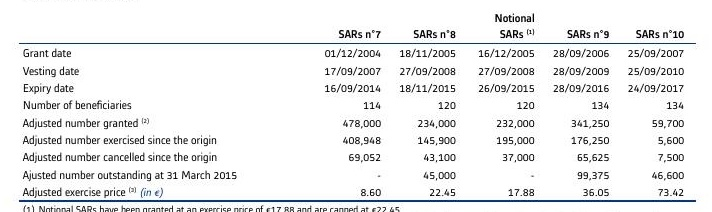table: (0, 0, 712, 212)
